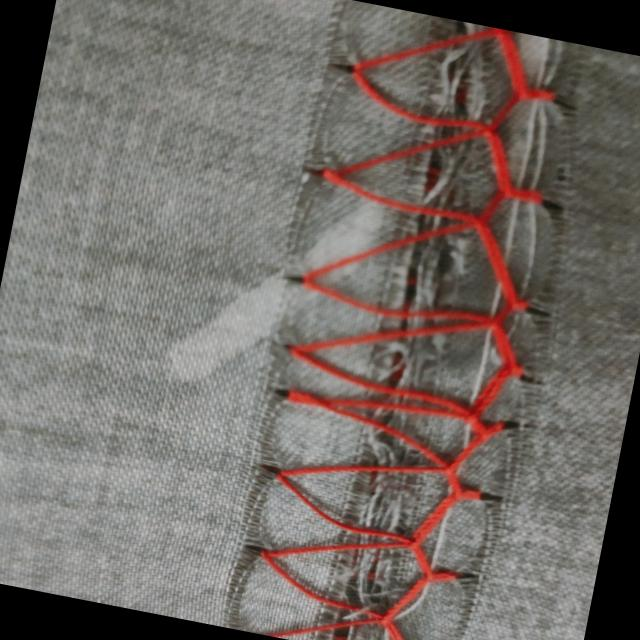gray stitch: (217, 0, 604, 640)
